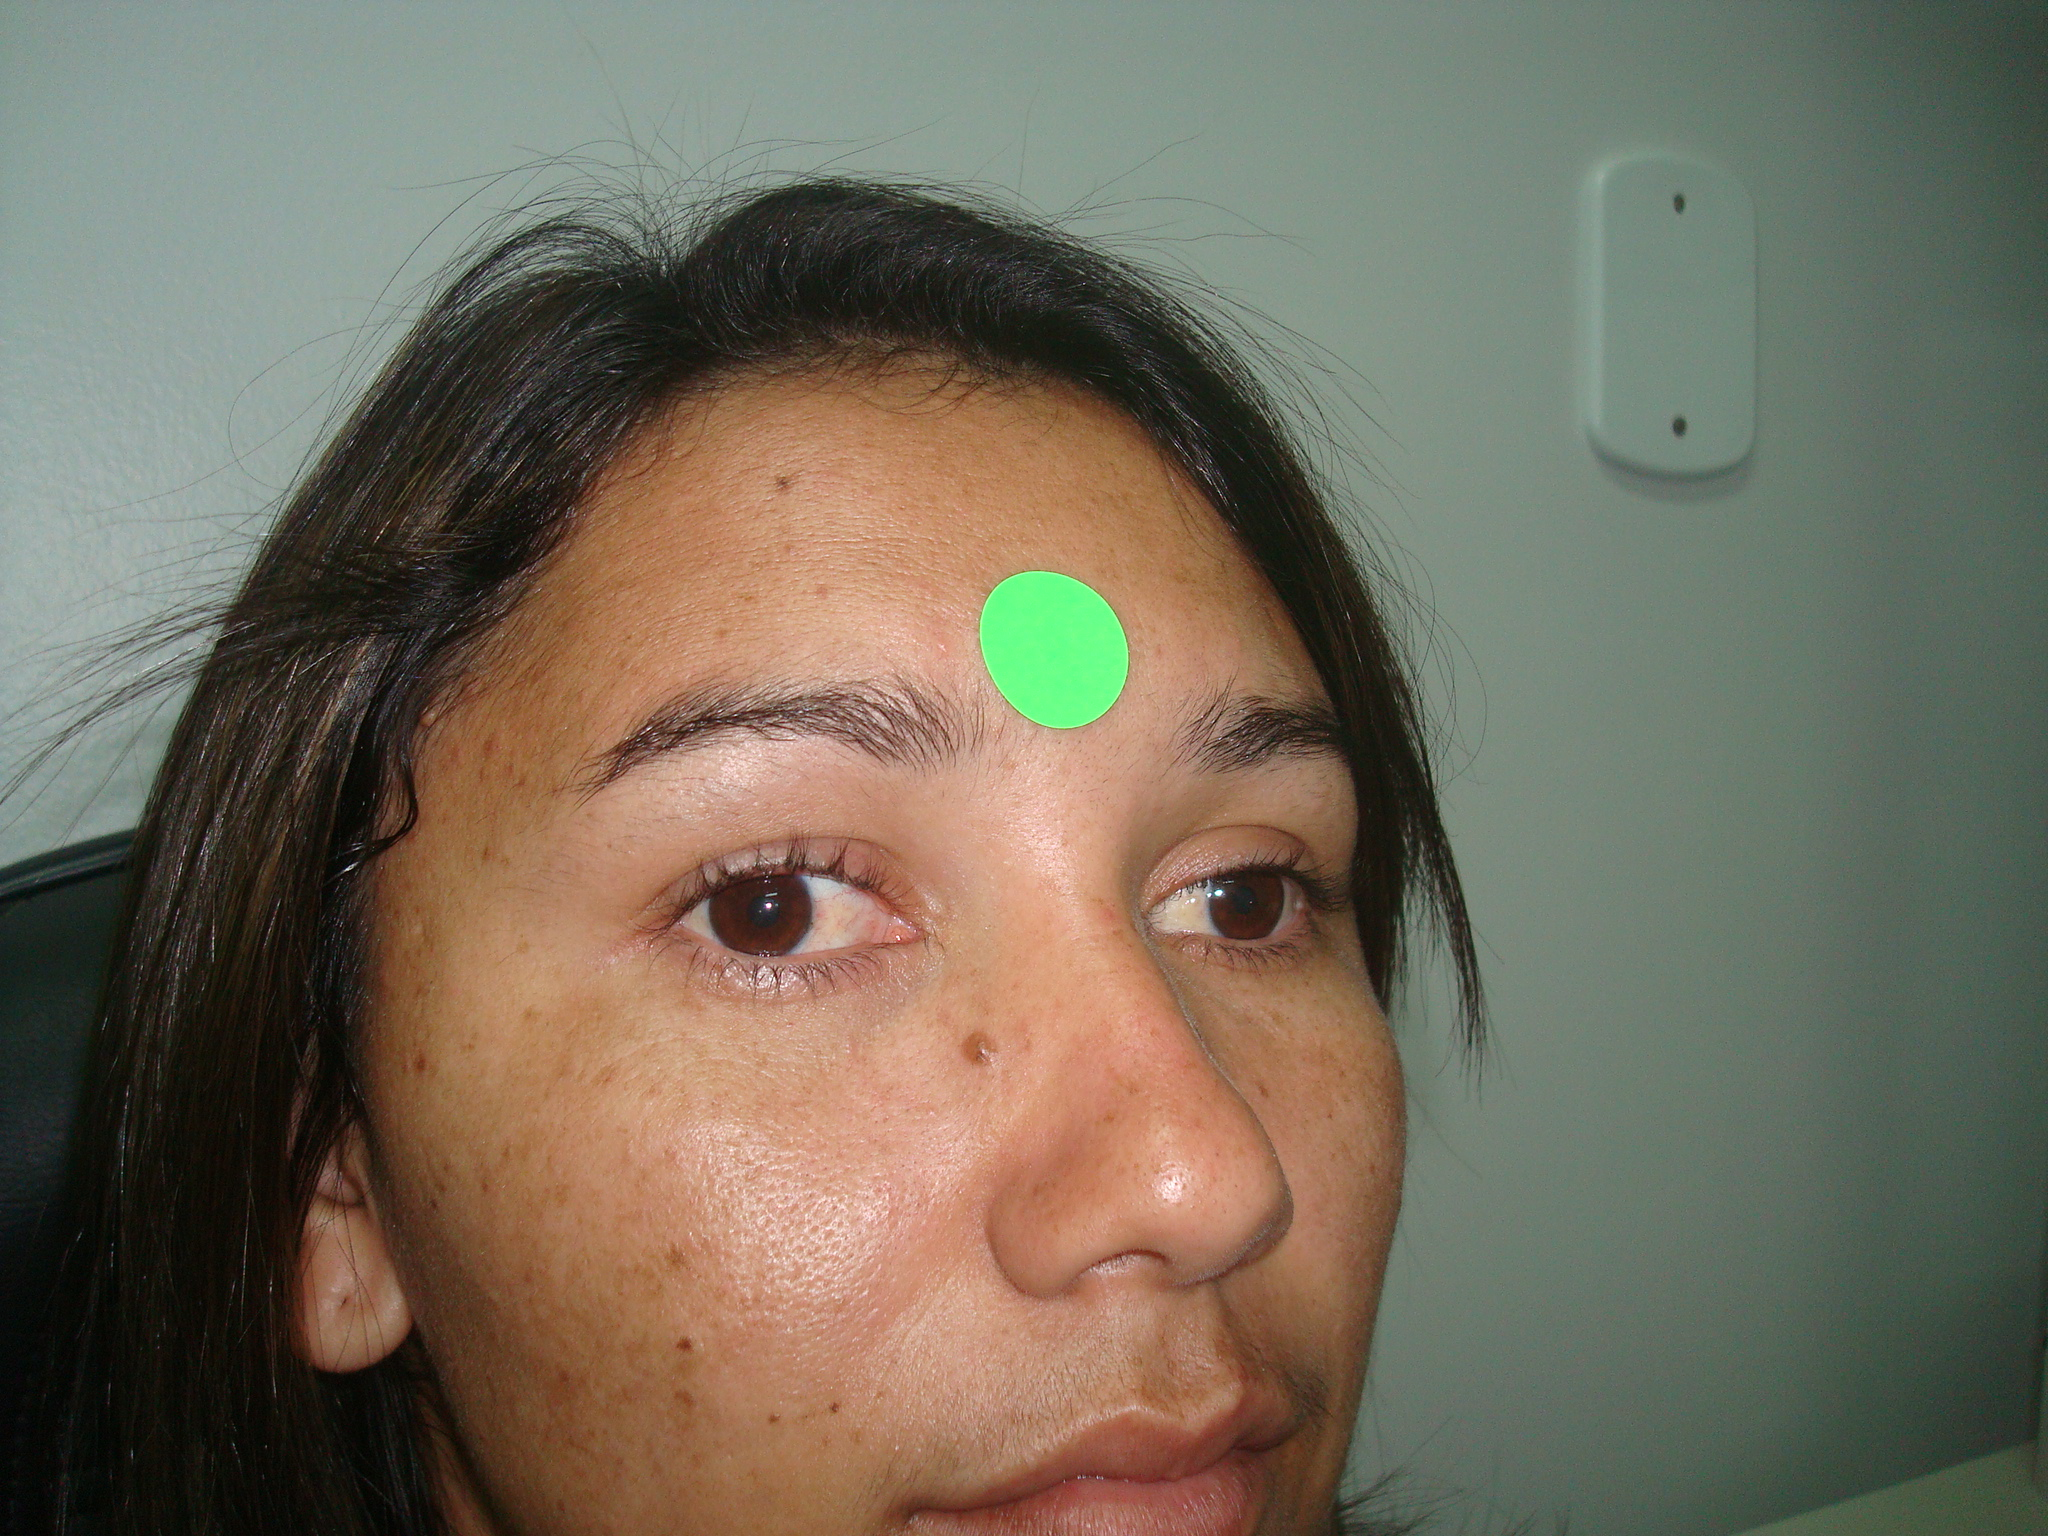flash: (761, 897, 776, 913), (1213, 887, 1224, 899)
limbo: (706, 860, 819, 957), (1206, 860, 1282, 939)
